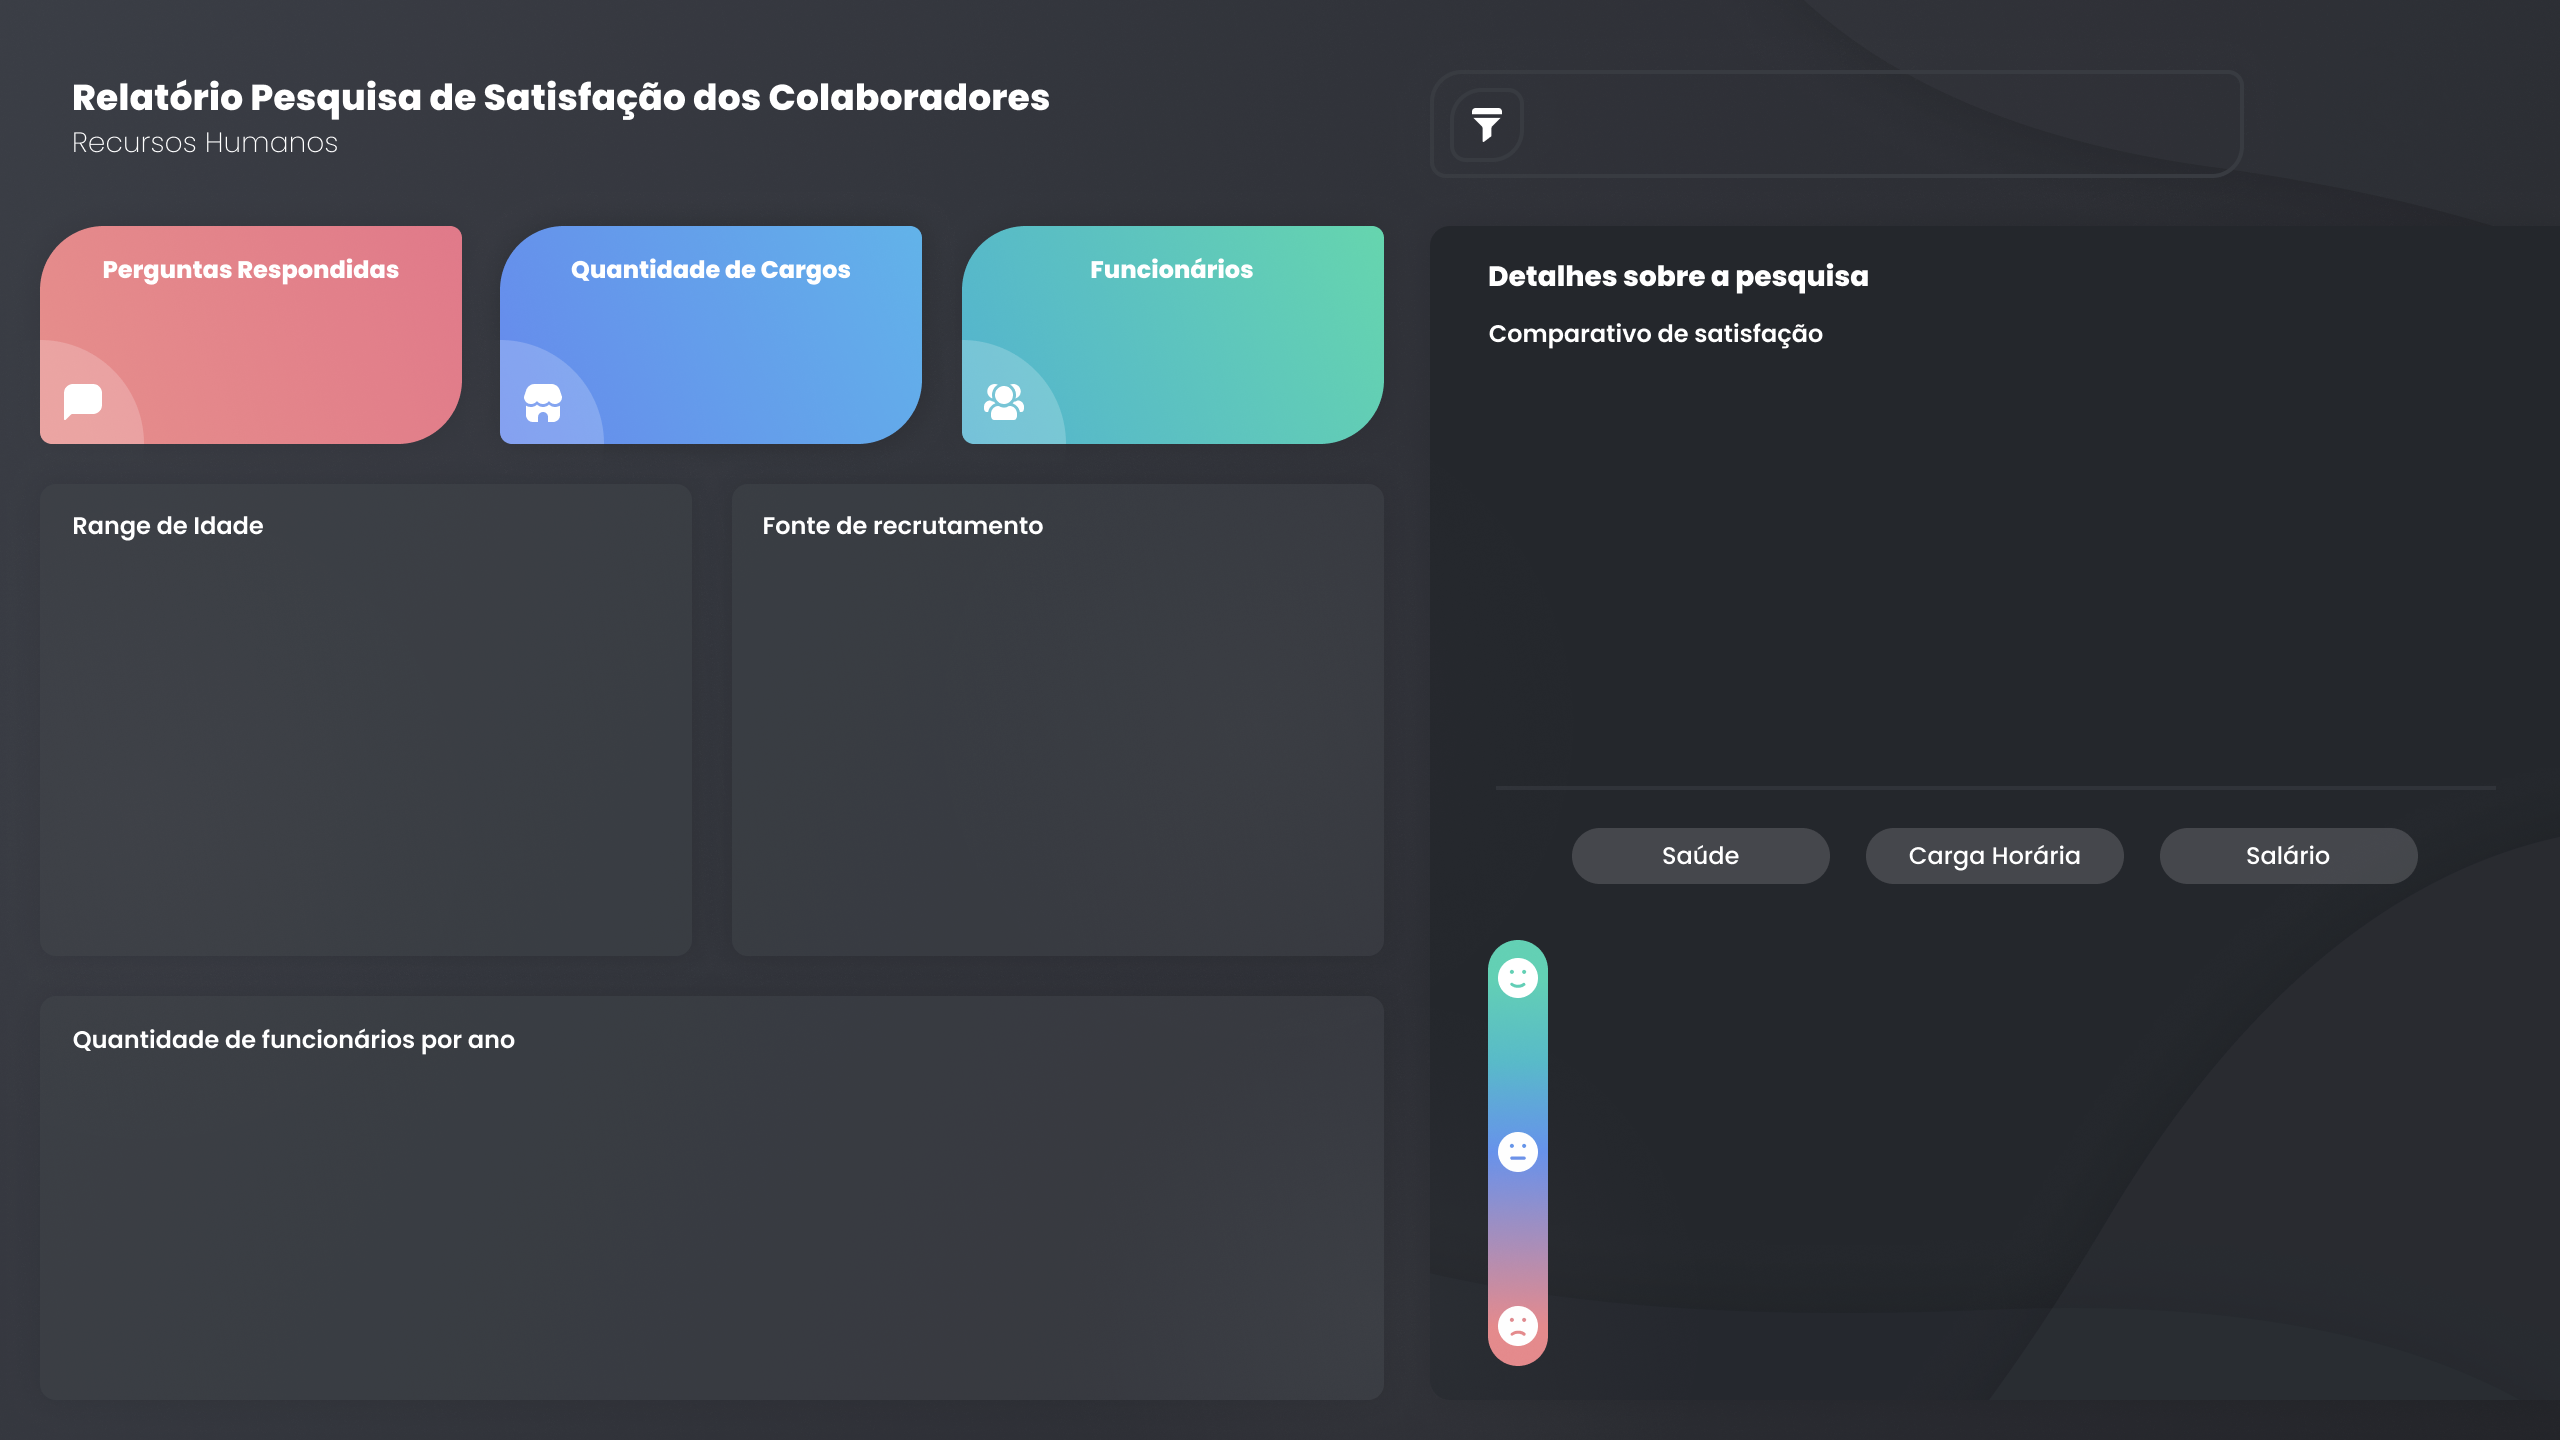

The dashboard page shown, as its layout file describes it:
{"tool":"powerbi","page":{"name":"Dashboard","canvas":[1280,720],"ordinal":0},"visuals":[{"type":"card","fields":{"Values":["Entrevistas.qtddePerguntas"]},"box":[0,110.1,254.5,123.4],"z":0},{"type":"card","fields":{"Values":["Entrevistas.qtd_cargos"]},"box":[235.5,112,246.9,119.6],"z":1},{"type":"card","fields":{"Values":["Integrantes.qtd_Integrantes"]},"box":[497.1,120.1,176.3,101.9],"z":2},{"type":"clusteredColumnChart","fields":{"Category":["Entrevistas.Resposta"],"Series":["Entrevistas.Entrevista"],"Y":["Entrevistas.qtddePerguntas"]},"box":[732.7,197.6,529,187],"z":3},{"type":"slicer","fields":{"Values":["Integrantes.Unidade"]},"box":[744.9,36.5,384.6,53.2],"z":4},{"type":"treemap","fields":{"Group":["Integrantes.Fonte Recrutamento"],"Values":["CountNonNull(Entrevistas.Funcionario)"]},"box":[374,275.2,310.1,191.5],"z":5},{"type":"funnel","fields":{"Y":["Entrevistas.QtdFuncionários"],"Category":["Integrantes.Faixa Etária"]},"box":[27.4,275.2,316.2,191.5],"z":6},{"type":"clusteredColumnChart","fields":{"Category":["Integrantes.Data Contratação.Variation.Hierarquia de datas.Ano"],"Y":["Entrevistas.QtdFuncionários"]},"box":[27.4,530.5,656.7,161.1],"z":7},{"type":"hundredPercentStackedColumnChart","fields":{"Category":["Entrevistas.Entrevista"],"Y":["Entrevistas.qtddePerguntas"],"Series":["Entrevistas.Resposta"]},"box":[744.9,456.9,223.5,263.2],"z":8},{"type":"hundredPercentStackedColumnChart","fields":{"Category":["Entrevistas.Entrevista"],"Y":["Entrevistas.qtddePerguntas"],"Series":["Entrevistas.Resposta"]},"box":[885.2,456.9,223.5,263.2],"z":9},{"type":"hundredPercentStackedColumnChart","fields":{"Category":["Entrevistas.Entrevista"],"Y":["Entrevistas.qtddePerguntas"],"Series":["Entrevistas.Resposta"]},"box":[1039.1,456.9,223.5,263.2],"z":10}]}

Visuals, with their boxes in screenshot pixels (x1, y1, x2, y2), scaled from the page's 1280x720 canvas onto the 2560x1440 screenshot:
card - Entrevistas.qtddePerguntas: [0, 220, 509, 467]
card - Entrevistas.qtd_cargos: [471, 224, 965, 463]
card - Integrantes.qtd_Integrantes: [994, 240, 1347, 444]
clusteredColumnChart - Entrevistas.Resposta x Entrevistas.Entrevista: [1465, 395, 2523, 769]
slicer - Integrantes.Unidade: [1490, 73, 2259, 179]
treemap - Integrantes.Fonte Recrutamento x CountNonNull(Entrevistas.Funcionario): [748, 550, 1368, 933]
funnel - Entrevistas.QtdFuncionários x Integrantes.Faixa Etária: [55, 550, 687, 933]
clusteredColumnChart - Integrantes.Data Contratação.Variation.Hierarquia de datas.Ano x Entrevistas.QtdFuncionários: [55, 1061, 1368, 1383]
hundredPercentStackedColumnChart - Entrevistas.Entrevista x Entrevistas.qtddePerguntas: [1490, 914, 1937, 1439]
hundredPercentStackedColumnChart - Entrevistas.Entrevista x Entrevistas.qtddePerguntas: [1770, 914, 2217, 1439]
hundredPercentStackedColumnChart - Entrevistas.Entrevista x Entrevistas.qtddePerguntas: [2078, 914, 2525, 1439]
